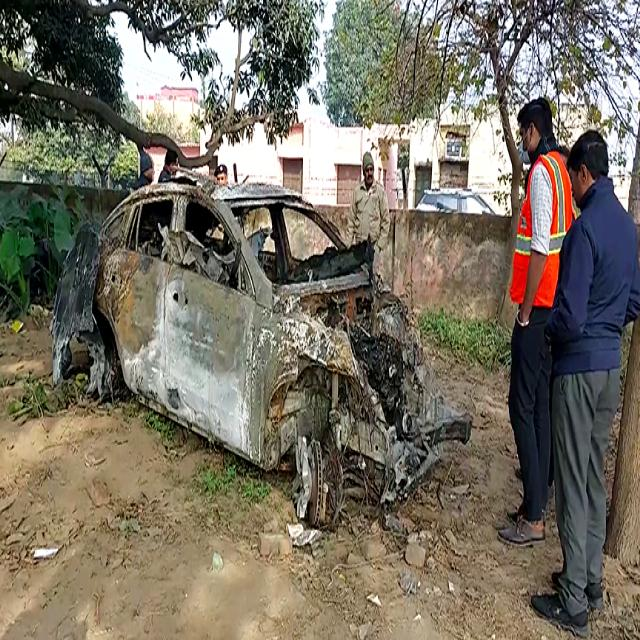accident: (51, 171, 470, 523)
